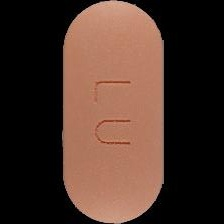68180-222: (0, 0, 224, 224)
